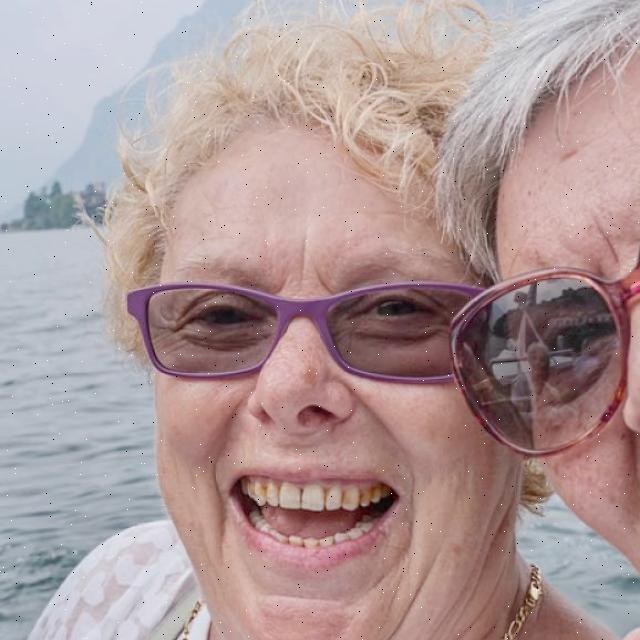puffy_eyes: (185, 327, 264, 344), (359, 318, 437, 335)
